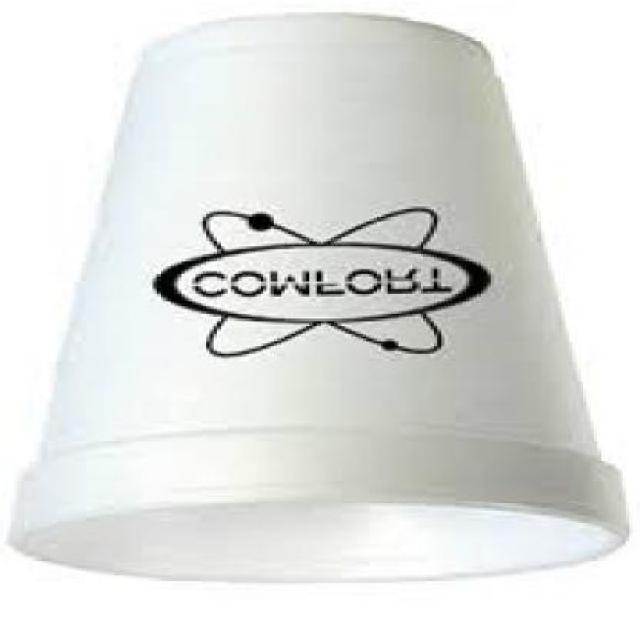PAPER: (7, 15, 625, 588)
